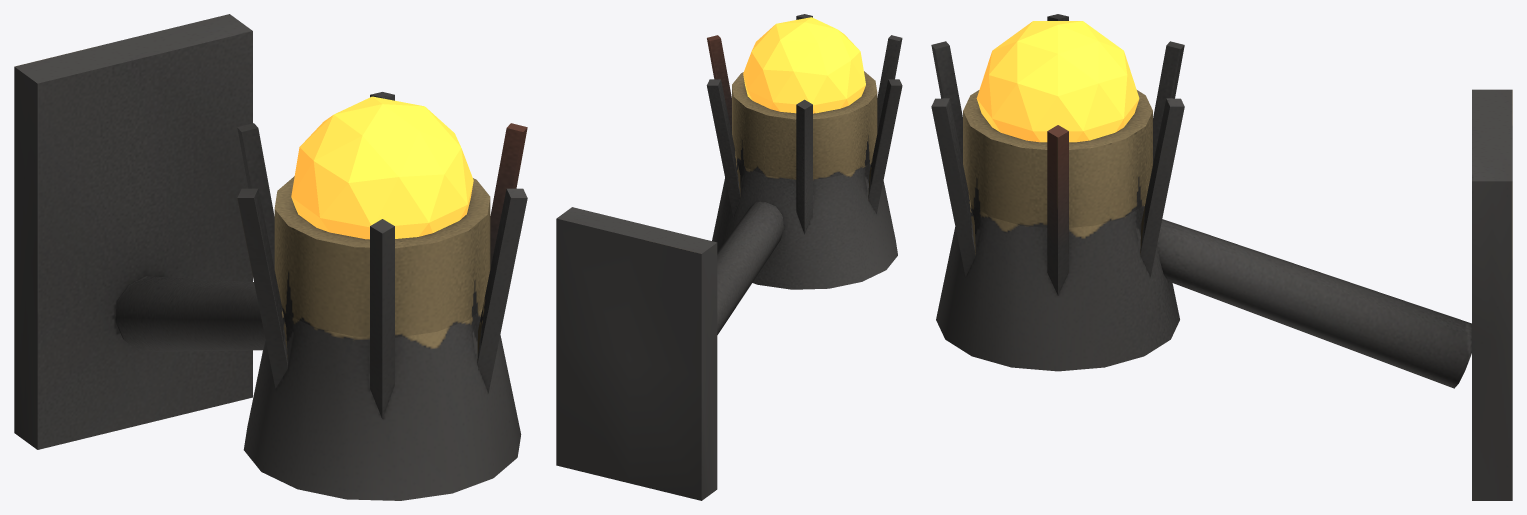
Rendered from cenario_tocha_parede.glb.
3 views of the same model, side by side, from view 1: azimuth 30°, elevation 25°; view 2: azimuth 150°, elevation 25°; view 3: azimuth 270°, elevation 25° (orthographic). The views are drawn at different scales.
Parts seen in each view (by area): view 1: cenario_tocha_parede; view 2: cenario_tocha_parede; view 3: cenario_tocha_parede.
Boxes of the visible parts, bbox=[...] form: cenario_tocha_parede: bbox=[14, 14, 527, 500]; cenario_tocha_parede: bbox=[556, 14, 902, 500]; cenario_tocha_parede: bbox=[931, 14, 1512, 500].
Bounding box in the file's own units: 0.2157 × 0.35 × 0.4284.
2 materials, 1 textured.
